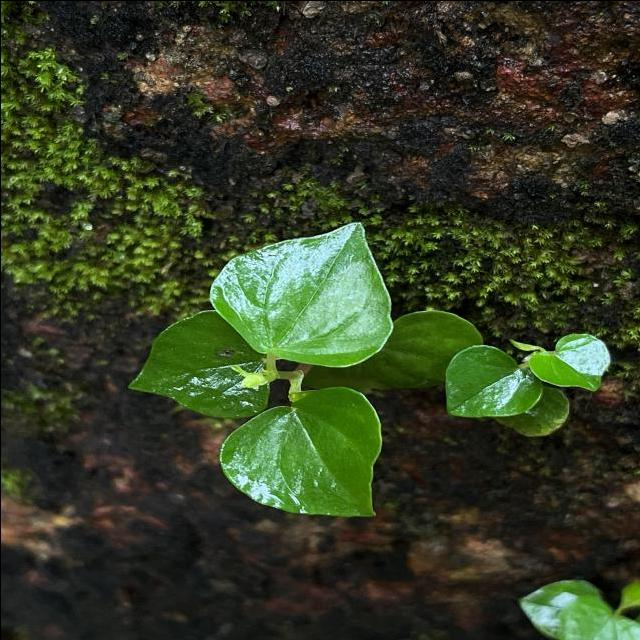Peperomia pellucida: (208, 218, 394, 370), (215, 384, 384, 517)
